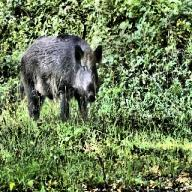boar: (18, 33, 103, 121)
